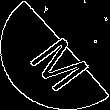M_NE: (18, 21, 92, 89)
